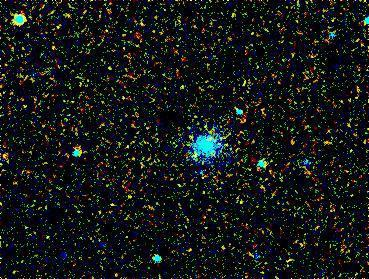star: (38, 35, 68, 65)
